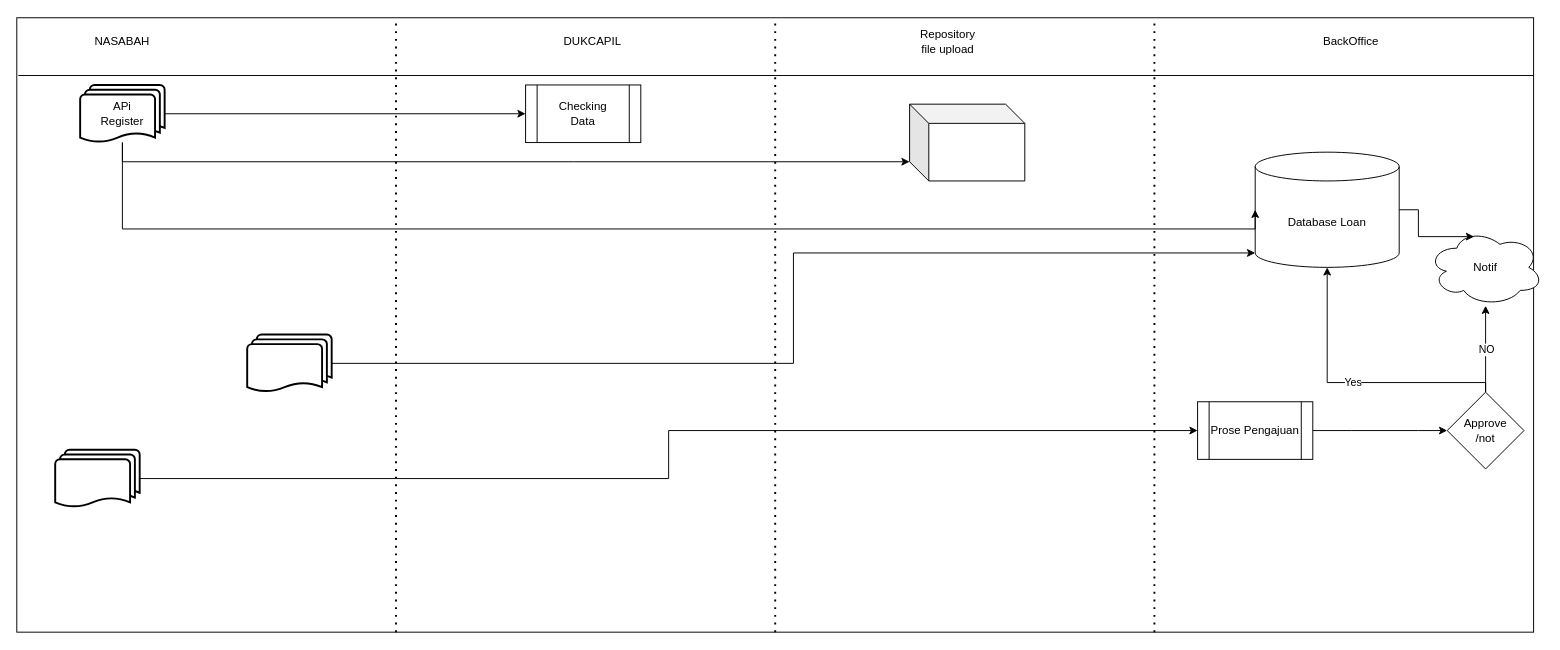
Image size: 1560x650. Some labels were removed from this diagram. Each missing label, with the box of its shape:
API Konfirmasi Payment: (246, 333, 332, 393)
API Pengajuan: (54, 448, 140, 508)
Simpan File Foto: (909, 103, 1025, 181)
